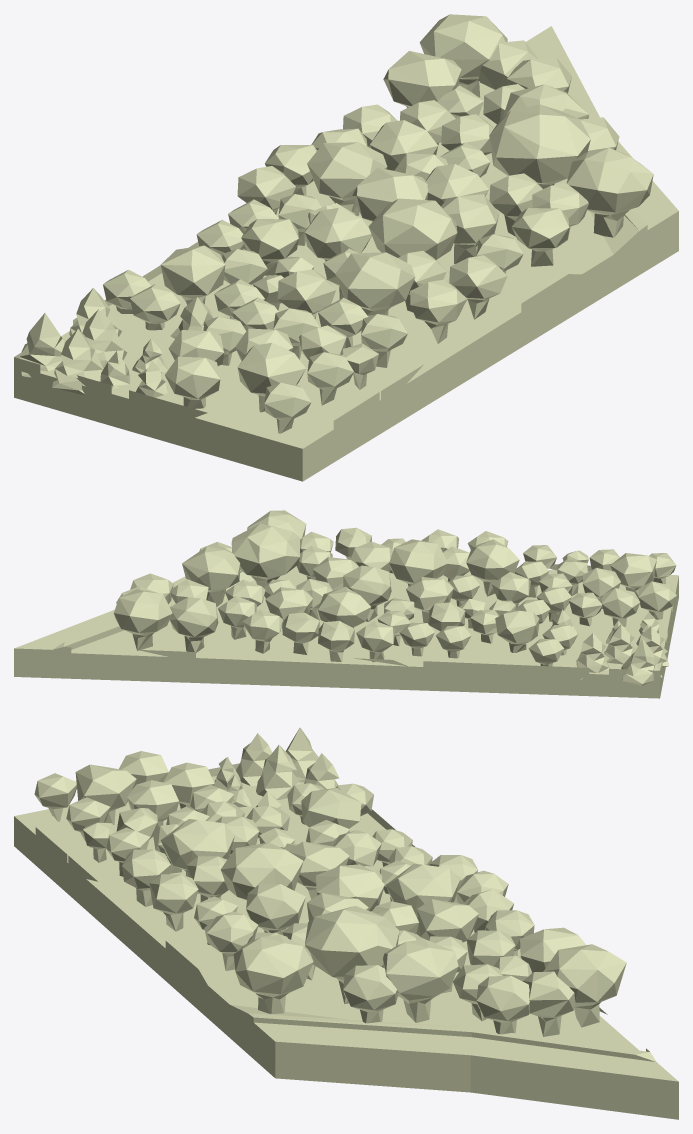
The model's file is station.glb.
3 renders of one model, top to bottom at view 1: azimuth 30°, elevation 25°; view 2: azimuth 150°, elevation 25°; view 3: azimuth 270°, elevation 25°, orthographic. The views are drawn at different scales.
Parts seen in each view (by area): view 1: station-unique-geometry; view 2: station-unique-geometry; view 3: station-unique-geometry.
Boxes of the visible parts, left/top/right/bottom form: station-unique-geometry: left=14, top=14, right=678, bottom=481; station-unique-geometry: left=14, top=510, right=678, bottom=698; station-unique-geometry: left=14, top=727, right=678, bottom=1119.
Bounding box in the file's own units: 142 × 24.57 × 120.
